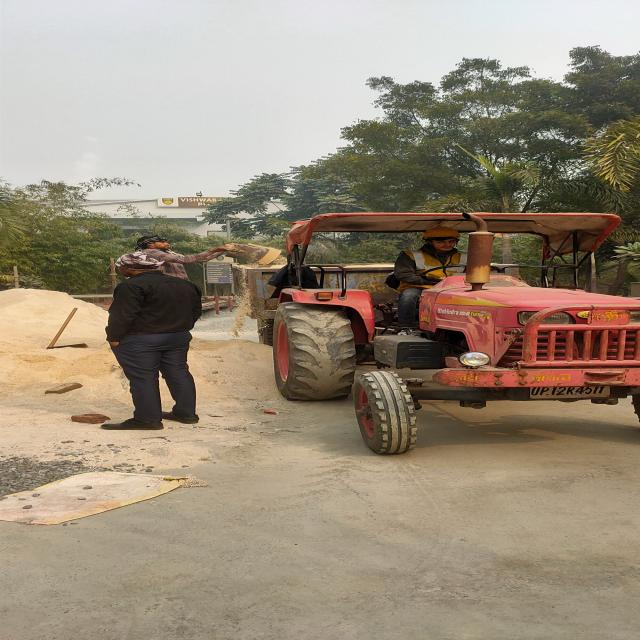safe: (395, 227, 470, 276)
unsafe: (113, 252, 196, 427)
